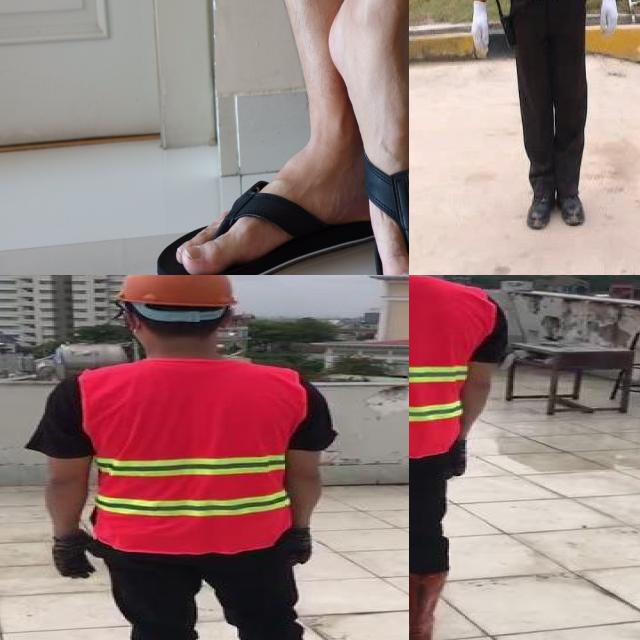Sandals: (148, 0, 409, 275)
boots: (409, 569, 452, 640), (557, 183, 589, 234), (525, 189, 558, 234)
hand_glove: (52, 535, 97, 579), (286, 528, 312, 565), (442, 443, 467, 479)
head_helmet: (109, 275, 243, 314)
person: (38, 275, 353, 640), (442, 0, 640, 241), (409, 275, 510, 640)
vest: (82, 359, 298, 552), (409, 275, 491, 457)
